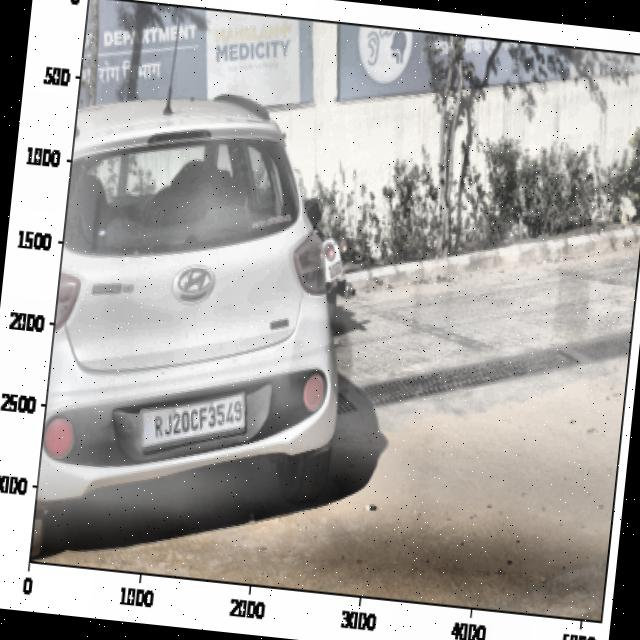license_plate: (152, 388, 246, 449)
